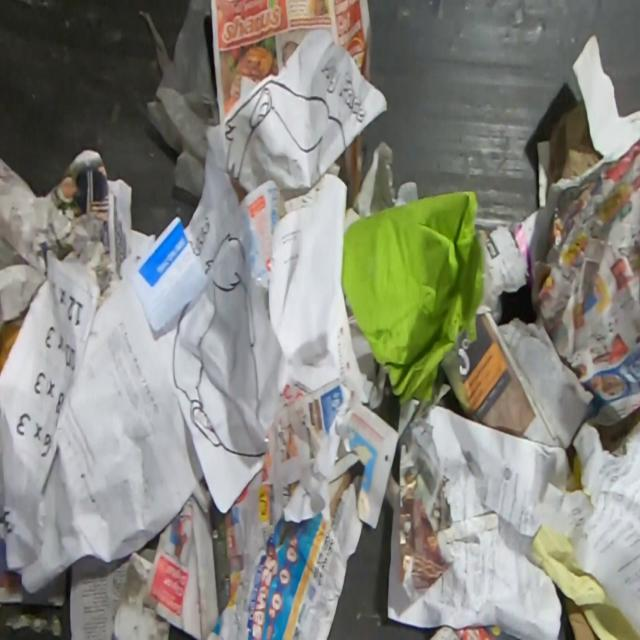cardboard: (340, 189, 486, 402), (564, 595, 597, 640), (344, 201, 360, 234)
soft_plastic: (138, 0, 220, 199)
